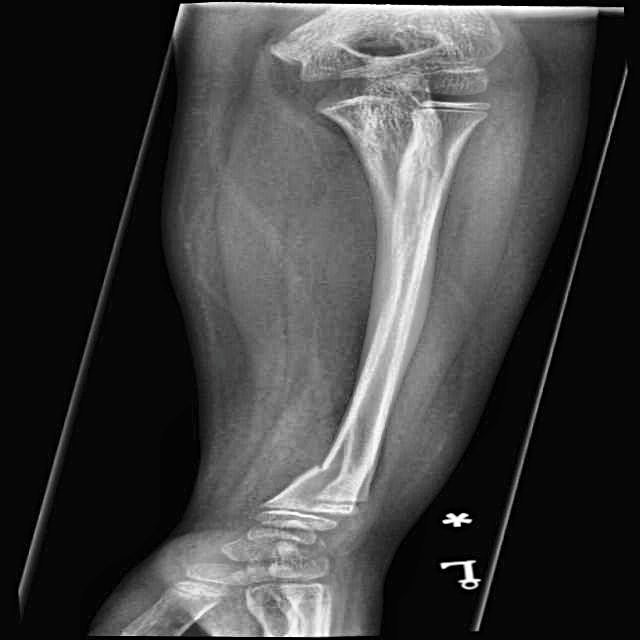Greenstick: (256, 445, 403, 498)
